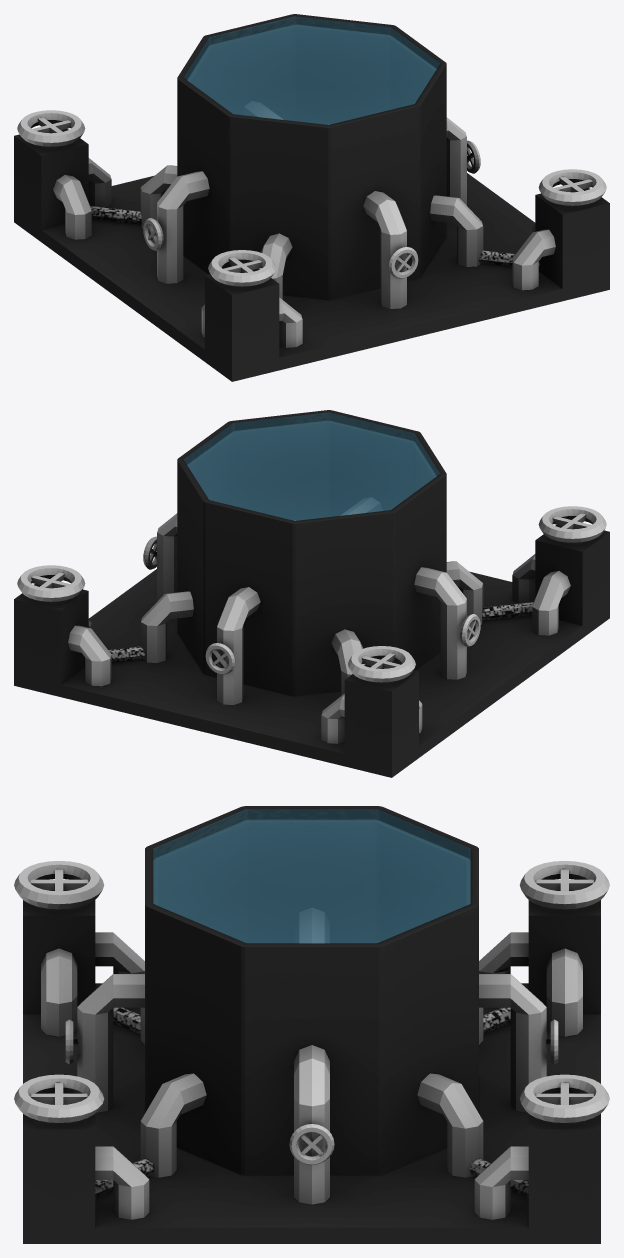
File: particle_accelerator.obj
The picture shows the model from 3 angles, top to bottom: view 1: azimuth 30°, elevation 25°; view 2: azimuth 150°, elevation 25°; view 3: azimuth 270°, elevation 25°; orthographic projection. The views are drawn at different scales.
Parts seen in each view (by area): view 1: Base_Cube.001; view 2: Base_Cube.001; view 3: Base_Cube.001.
Boxes of the visible parts, bbox=[...] form: Base_Cube.001: bbox=[14, 14, 609, 381]; Base_Cube.001: bbox=[14, 410, 609, 777]; Base_Cube.001: bbox=[14, 806, 609, 1243].
Size of the model in its own units: 16.5 by 7.5 by 16.5.
